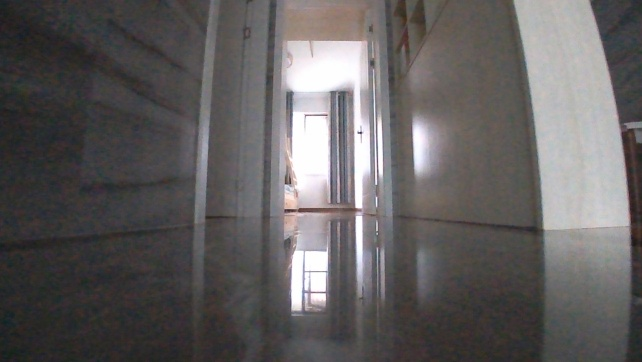door_anno: (355, 0, 397, 218)
